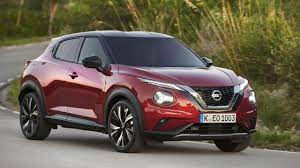Nissan: (19, 31, 257, 151)
